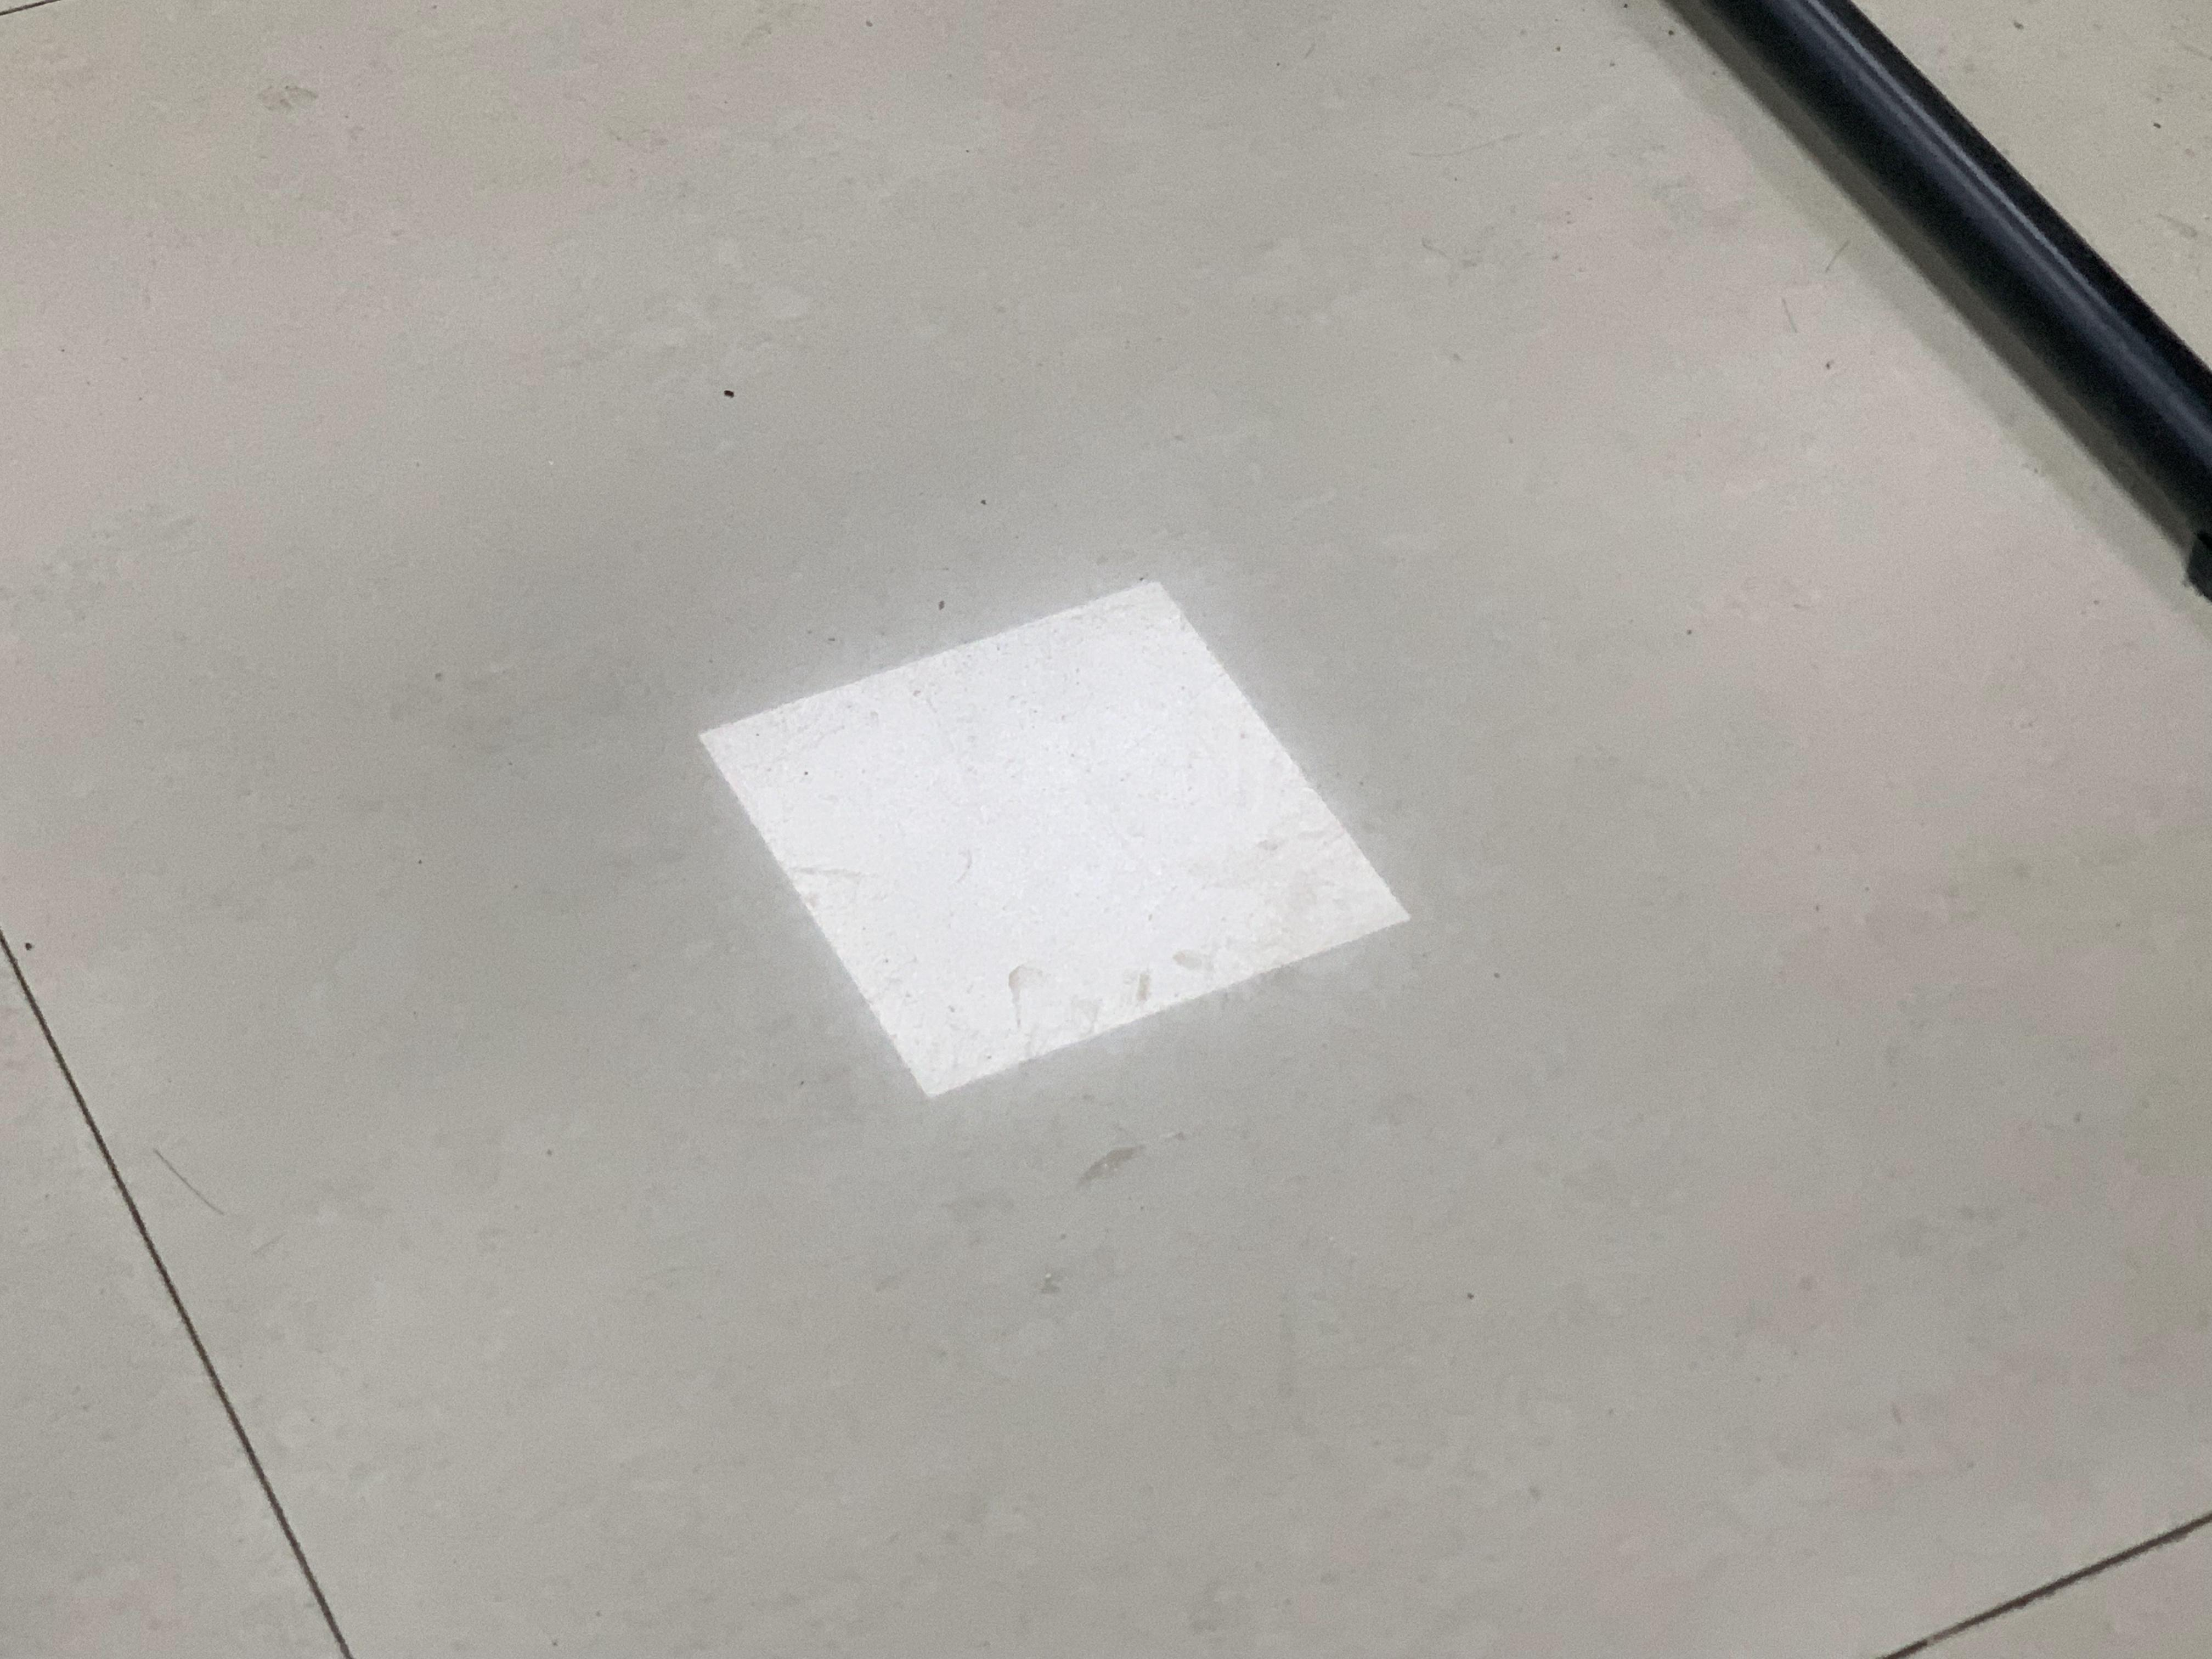reflection: (695, 580, 1413, 1098)
